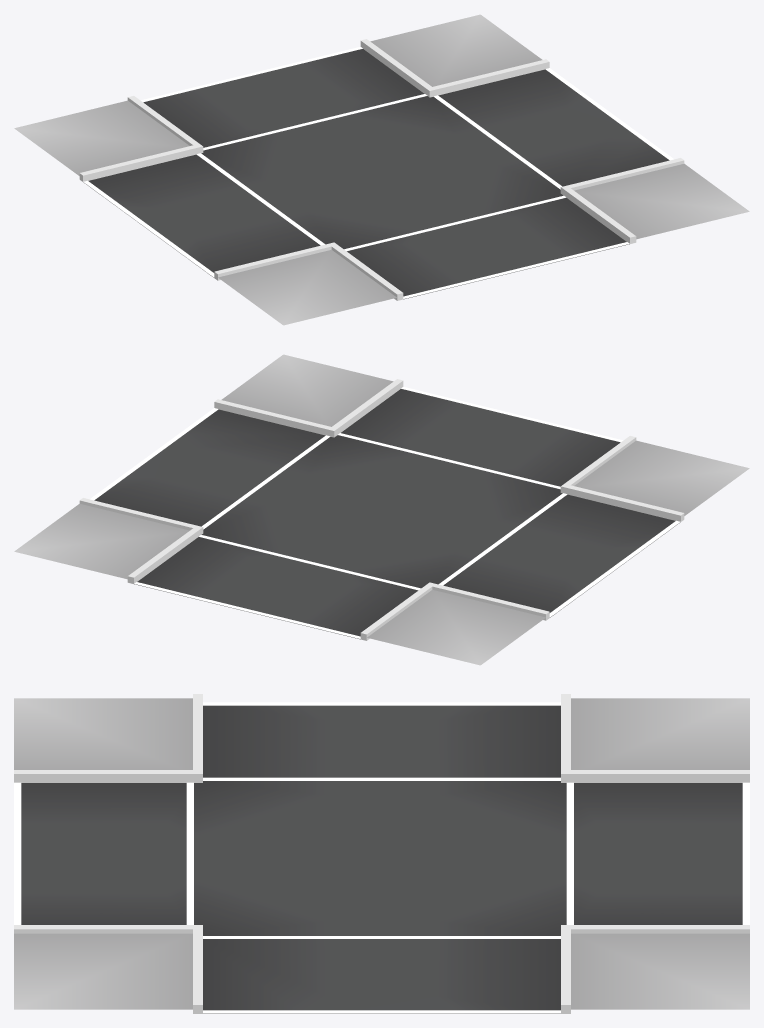
File: city2-road-012.glb
3 renders of one model, top to bottom at view 1: azimuth 30°, elevation 25°; view 2: azimuth 150°, elevation 25°; view 3: azimuth 270°, elevation 25°, orthographic. The views are drawn at different scales.
Parts seen in each view (by area): view 1: road_012; view 2: road_012; view 3: road_012.
Boxes of the visible parts, <box> form: road_012: <box>14,14,749,325</box>; road_012: <box>14,354,749,665</box>; road_012: <box>14,694,749,1013</box>.
Bounding box in the file's own units: 15 × 0.2 × 15.
Materials: 1 (1 with a texture image).
